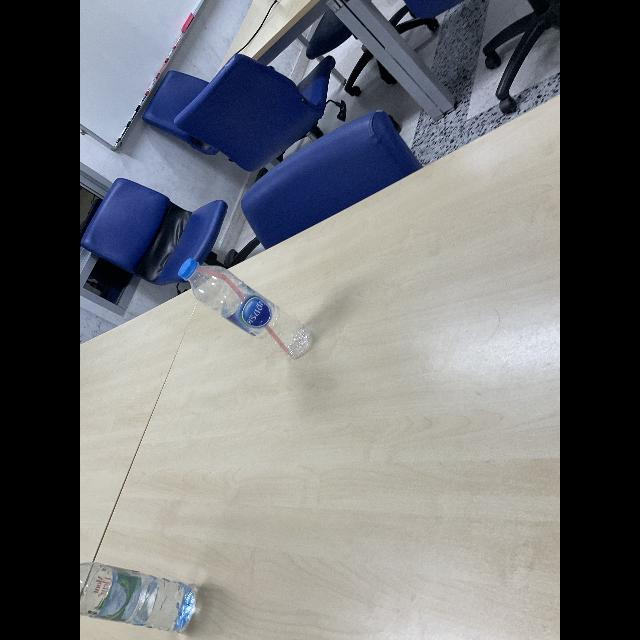plastic_bottle: (176, 254, 314, 362), (80, 561, 200, 635)
plastic_bottle_cap: (178, 258, 200, 280)
straw: (196, 266, 292, 356)
